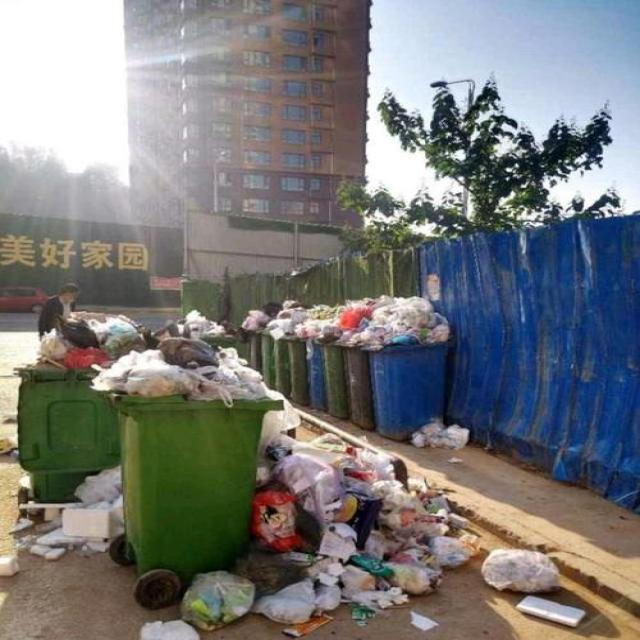garbage: (138, 418, 582, 639), (0, 463, 124, 576)
overflow: (87, 308, 285, 582), (15, 310, 119, 502), (364, 297, 449, 441), (337, 298, 371, 430)
